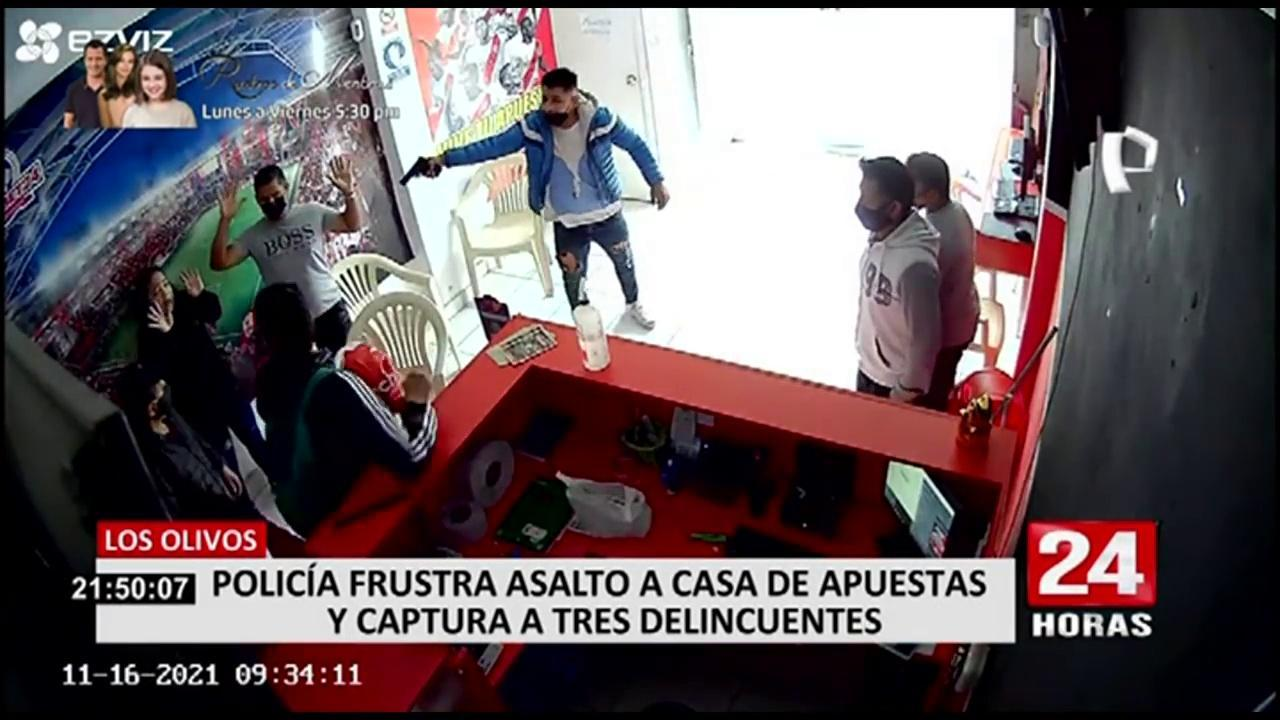Guns perspective: (394, 135, 448, 195)
